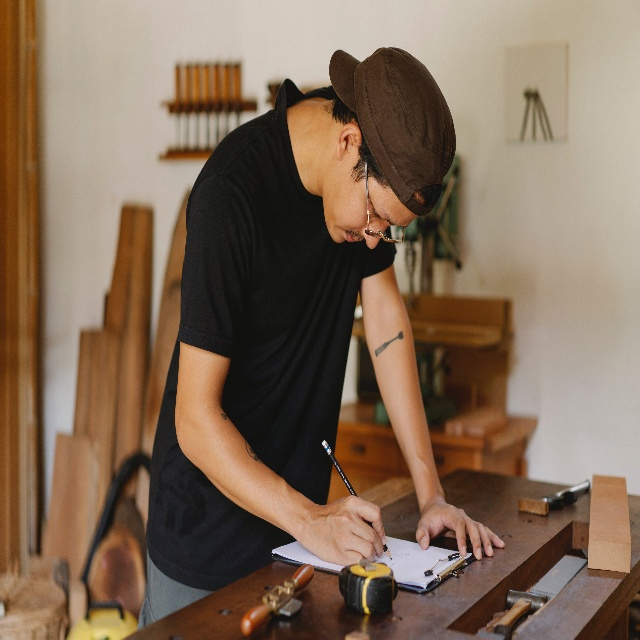Gafas: (364, 158, 405, 244)
Sin_guantes: (299, 494, 386, 568), (415, 493, 506, 560)
